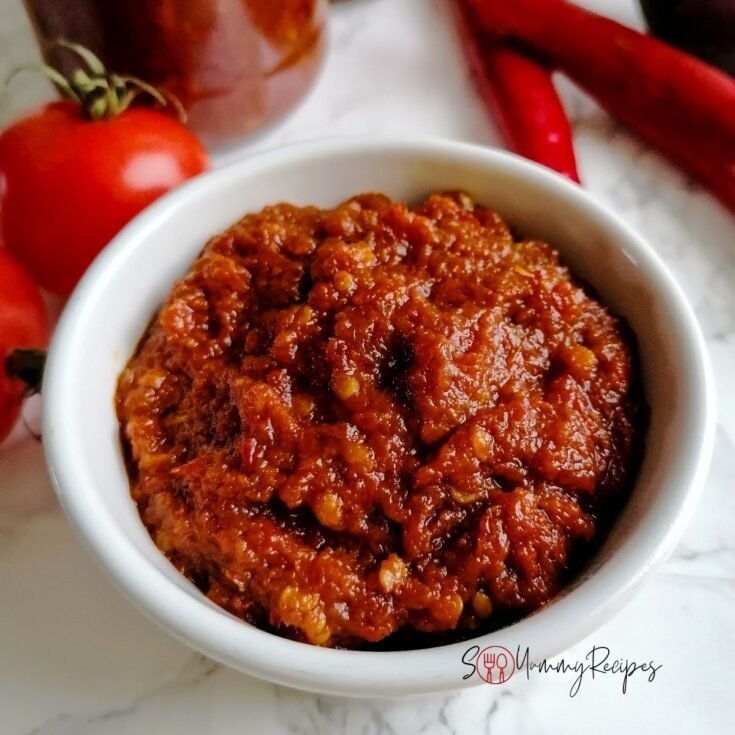sambal: (112, 190, 633, 647)
